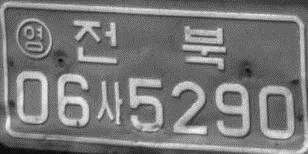0: (257, 84, 295, 140), (15, 69, 49, 125)
2: (170, 79, 208, 135)
5: (127, 76, 164, 133)
6: (55, 72, 91, 128)
9: (215, 81, 250, 137)
사: (97, 80, 123, 125)
영: (15, 17, 52, 60)
전북_D: (72, 19, 226, 71)
